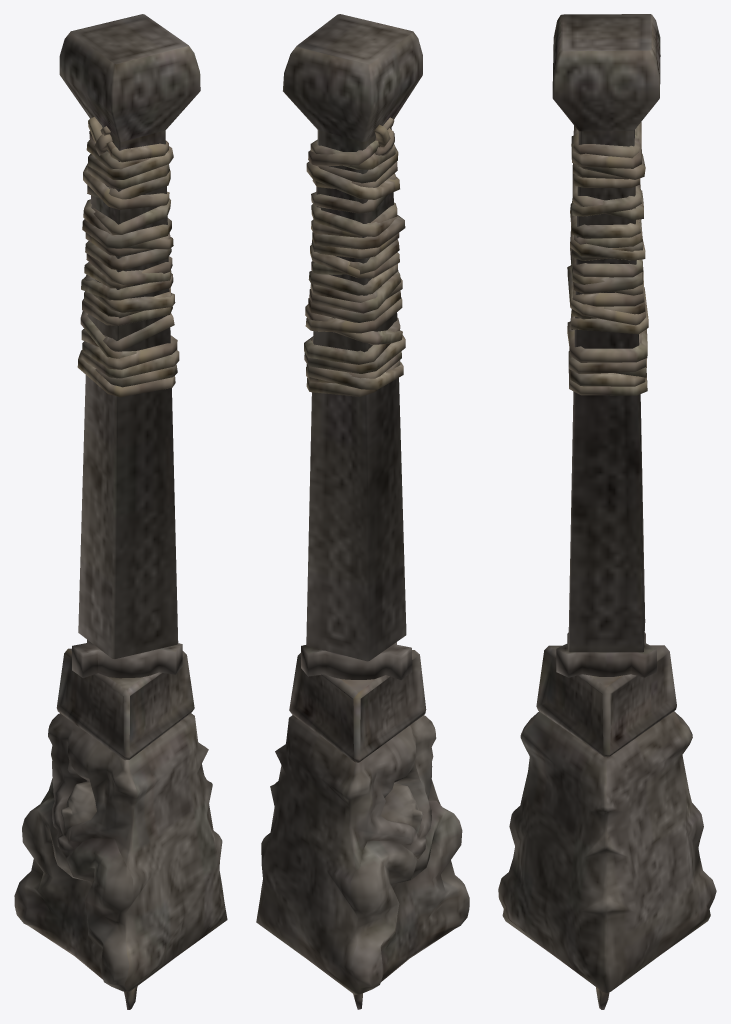
File: weapon-wp_a_3006.glb
3 views of the same model, side by side, from view 1: azimuth 30°, elevation 25°; view 2: azimuth 150°, elevation 25°; view 3: azimuth 270°, elevation 25° (orthographic).
Parts seen in each view (by area): view 1: wp_a_3006_mesh; view 2: wp_a_3006_mesh; view 3: wp_a_3006_mesh.
Part boxes in pixels (x1,y1,x2,y2): wp_a_3006_mesh: (14, 14, 227, 1009); wp_a_3006_mesh: (256, 14, 469, 1009); wp_a_3006_mesh: (498, 14, 716, 1009).
Bounding box in the file's own units: 0.1102 × 0.6138 × 0.1242.
2 materials, 2 textured.
